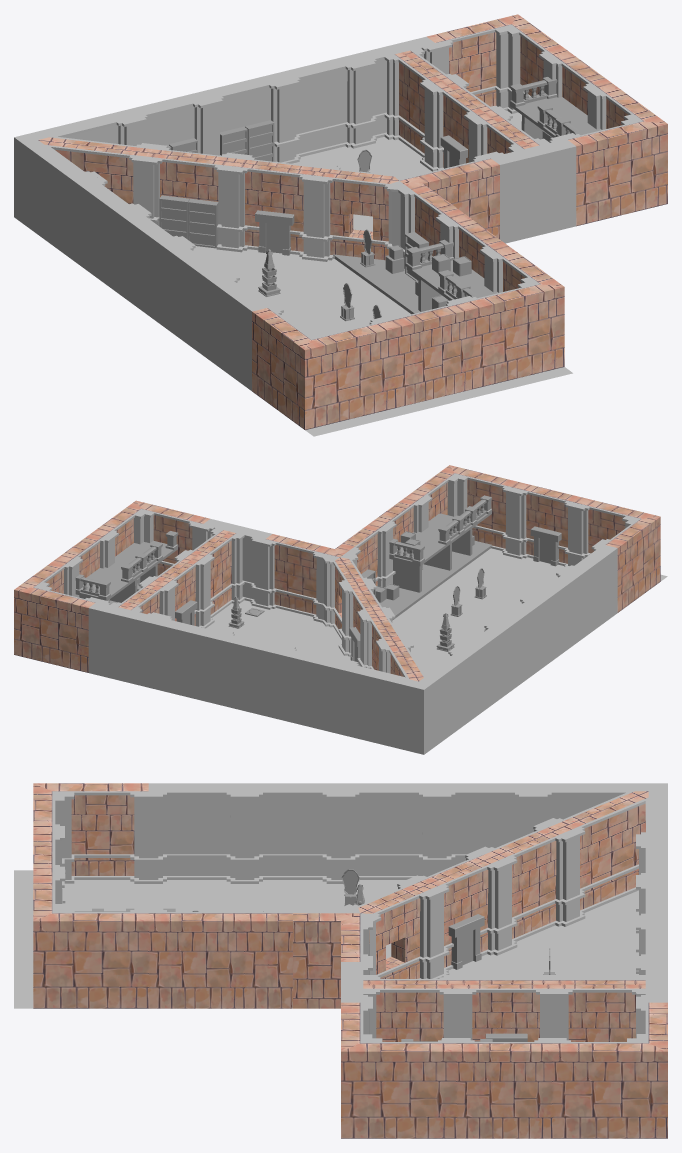
The model's file is salle_2_passé_derniere_version (3).fbx.
3 views of the same model, one above another, from view 1: azimuth 30°, elevation 25°; view 2: azimuth 150°, elevation 25°; view 3: azimuth 270°, elevation 25° (orthographic). The views are drawn at different scales.
Visible parts, largest first — view 1: polySurface135 (×3), sol4, polySurface130 (×3), polySurface136, mur_porte_clean11, mur_cleane4, mur_cleane8, group38_mur_clean_passé48, mur_clean_passé73, mur_clean_passé50, mur_g, polySurface137 (+25 smaller); view 2: sol4, polySurface130 (×3), polySurface135 (×3), mur_clean_passé50, moitie_mur_angle_clean, mur_cleane5, mur_cleane7, mur_cleane4, mur_porte_clean11, mur_cleane6, mur_g, polySurface137 (+25 smaller); view 3: polySurface130 (×3), sol4, polySurface135 (×3), mur_clean_passé50, mur_porte_clean10, mur_clean_passé62, mur_cleane, mur_cleane1, mur_cleane2, polySurface137, group39_mur_clean_passé48, mur_clean_passé72 (+16 smaller).
Part boxes in pixels (<box>): polySurface135 (×3): <box>459,14,667,388</box>; sol4: <box>193,111,572,436</box>; polySurface130 (×3): <box>427,14,667,292</box>; polySurface136: <box>305,317,396,429</box>; mur_porte_clean11: <box>382,298,472,407</box>; mur_cleane4: <box>274,55,364,163</box>; mur_cleane8: <box>486,135,576,243</box>; group38_mur_clean_passé48: <box>314,163,409,261</box>; mur_clean_passé73: <box>229,154,324,260</box>; mur_clean_passé50: <box>390,154,499,268</box>; mur_g: <box>14,137,100,261</box>; polySurface137: <box>252,305,315,429</box>; sol4: <box>206,548,667,674</box>; polySurface130 (×3): <box>14,465,457,672</box>; polySurface135 (×3): <box>14,465,523,596</box>; mur_clean_passé50: <box>260,523,391,622</box>; moitie_mur_angle_clean: <box>337,660,423,754</box>; mur_cleane5: <box>212,629,286,718</box>; mur_cleane7: <box>88,599,162,687</box>; mur_cleane4: <box>150,614,223,703</box>; mur_porte_clean11: <box>512,483,585,566</box>; mur_cleane6: <box>275,645,348,733</box>; mur_g: <box>419,648,474,754</box>; polySurface137: <box>597,516,660,612</box>; polySurface130 (×3): <box>33,908,667,1138</box>; sol4: <box>14,870,638,1008</box>; polySurface135 (×3): <box>33,872,667,1138</box>; mur_clean_passé50: <box>244,908,372,1008</box>; mur_porte_clean10: <box>456,1038,552,1138</box>; mur_clean_passé62: <box>148,908,244,1008</box>; mur_cleane: <box>148,783,244,883</box>; mur_cleane1: <box>244,783,340,883</box>; mur_cleane2: <box>341,783,437,883</box>; polySurface137: <box>34,783,148,883</box>; group39_mur_clean_passé48: <box>543,791,648,922</box>; mur_clean_passé72: <box>475,822,575,951</box>.
Bounding box in the file's own units: 33 × 5.01 × 34.
